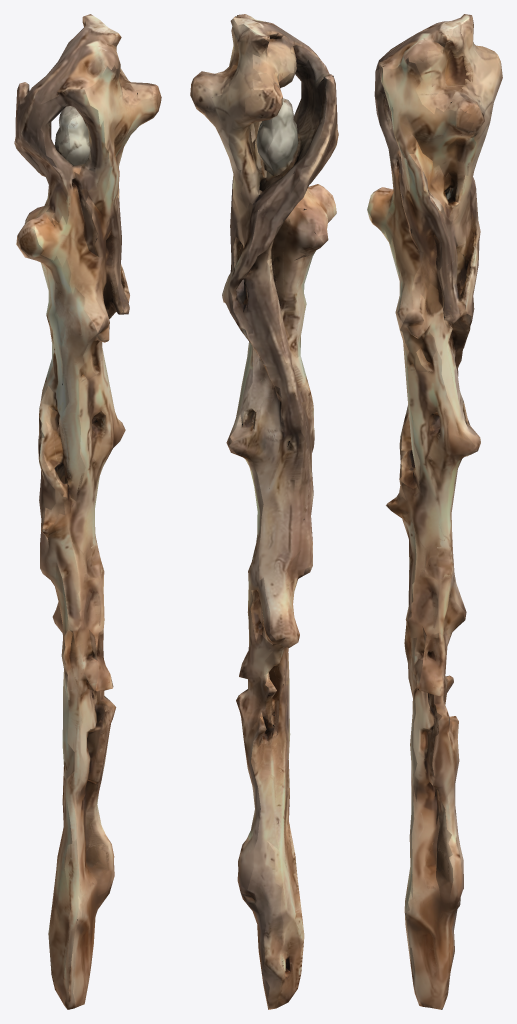
Rendered from SM_Staff_Undead_Husk_Staff.FBX.
3 views of the same model, side by side, from view 1: azimuth 30°, elevation 25°; view 2: azimuth 210°, elevation 25°; view 3: azimuth 330°, elevation 25° (orthographic).
Visible parts, largest first — view 1: SM_Staff_Undead_Husk_Staff; view 2: SM_Staff_Undead_Husk_Staff; view 3: SM_Staff_Undead_Husk_Staff.
Part boxes in pixels (x1,y1,x2,y2): SM_Staff_Undead_Husk_Staff: (14,14,161,1009); SM_Staff_Undead_Husk_Staff: (190,14,338,1009); SM_Staff_Undead_Husk_Staff: (367,14,502,1009).
Size of what is drawn, in the model's own units: 21.58 by 18.37 by 160.
